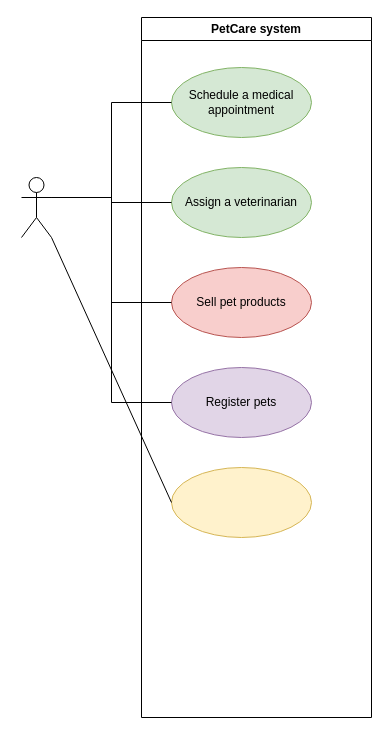
Image size: 389x735. Some labels were removed from this diagram. The shapes that lost their labels are listed below. From the top down, each one's box as (x1, y1, x2, y2) in pixels, then its label:
(20, 176, 52, 238): Worker
(170, 466, 312, 538): Generate electronic invoicing
